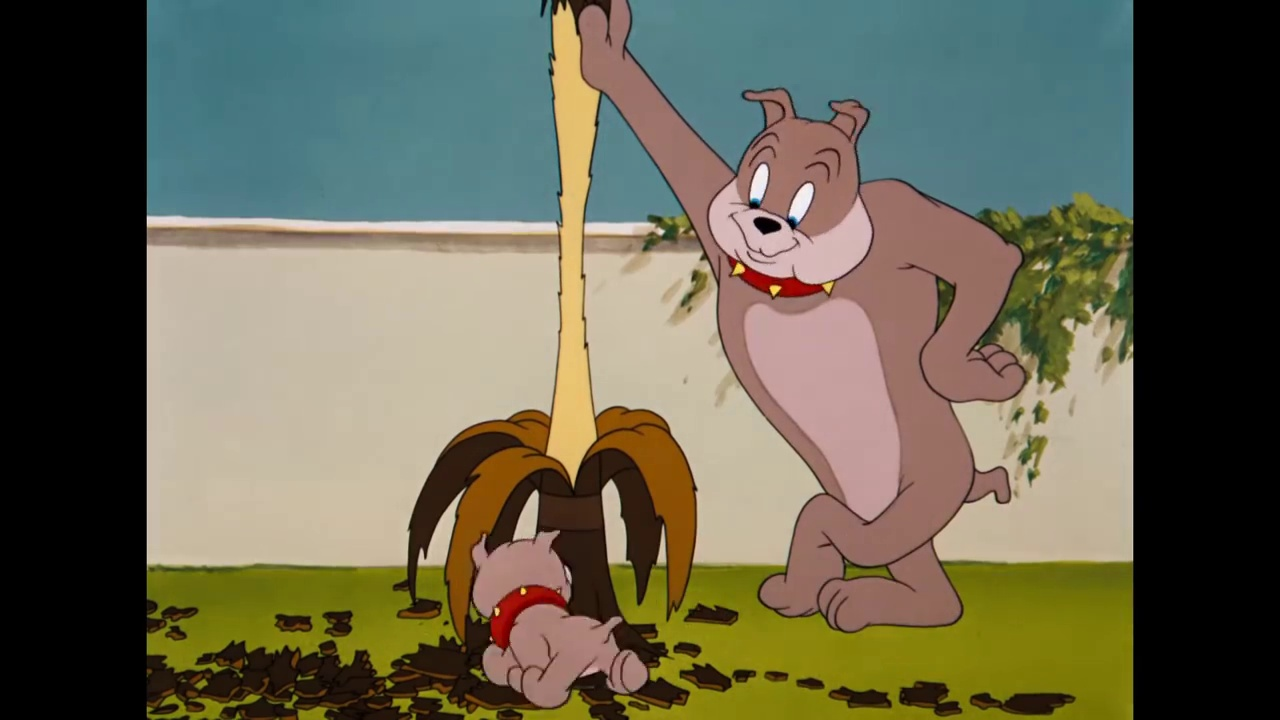spike: (699, 84, 872, 305)
